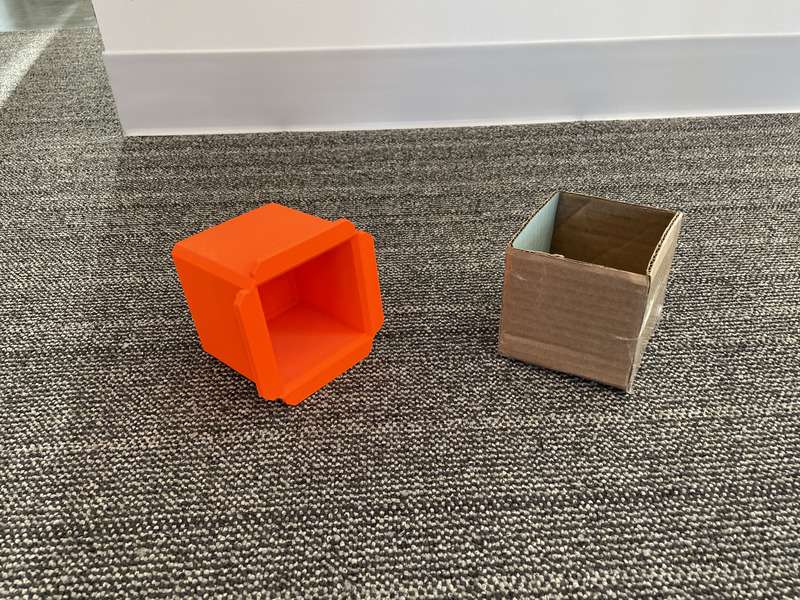payload1: (169, 200, 390, 411)
payload3: (489, 184, 697, 398)
